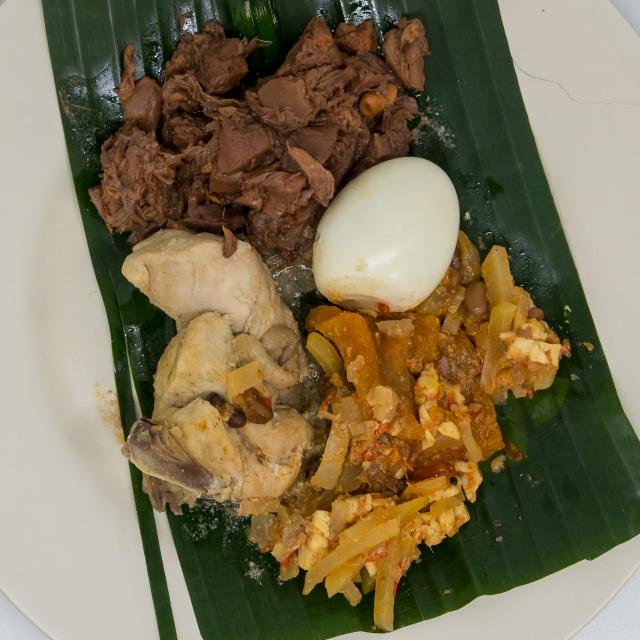Gudeg-Jogja: (58, 12, 581, 623)
